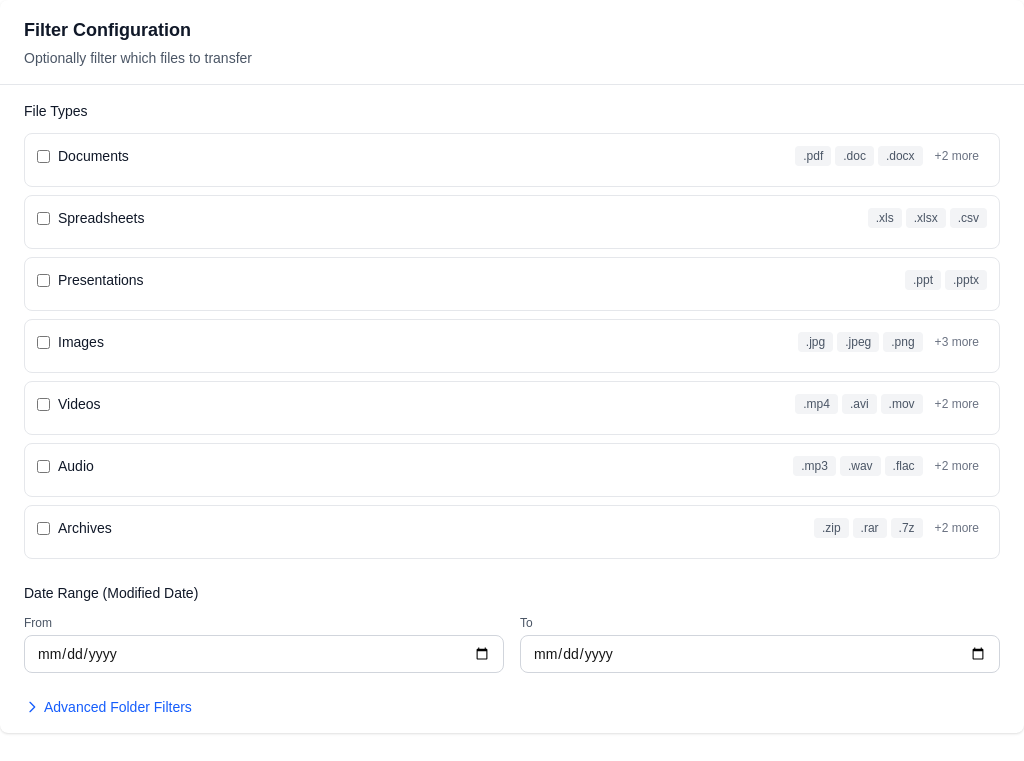
FilterConfiguration Component › validates date range - shows error when start date is after end date
Type "2024-12-31" into the date field labelled "From" at (264, 654), box [24,635,504,673]
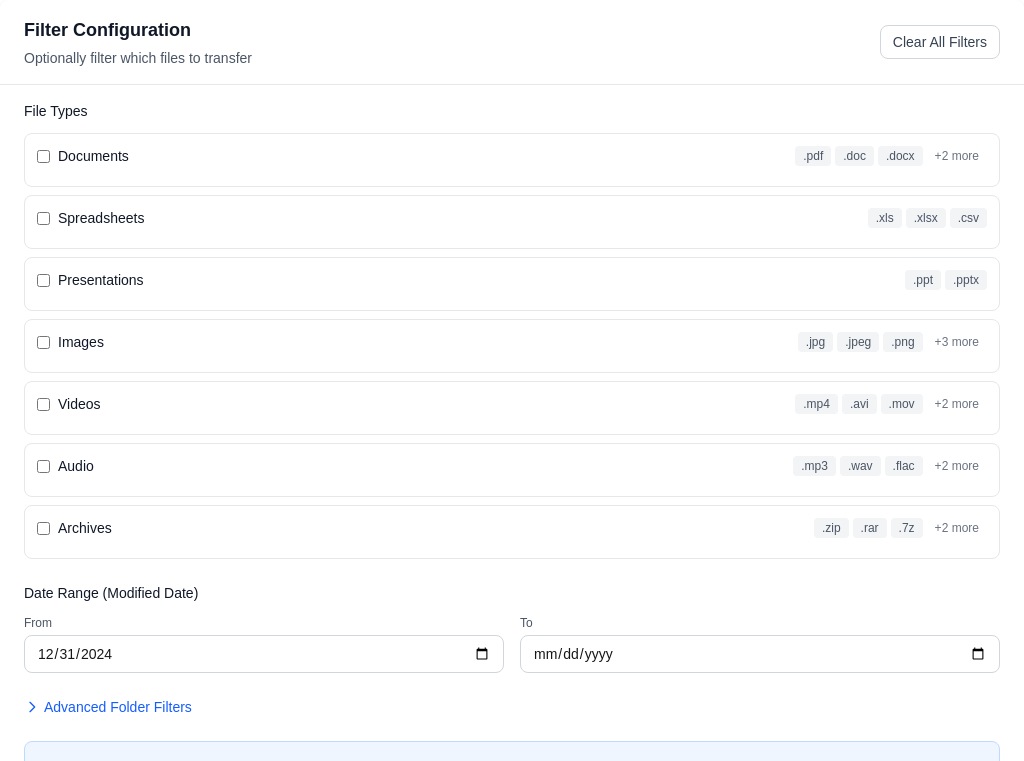
Type "2024-01-01" into the date field labelled "To" at (760, 654), box [520,635,1000,673]
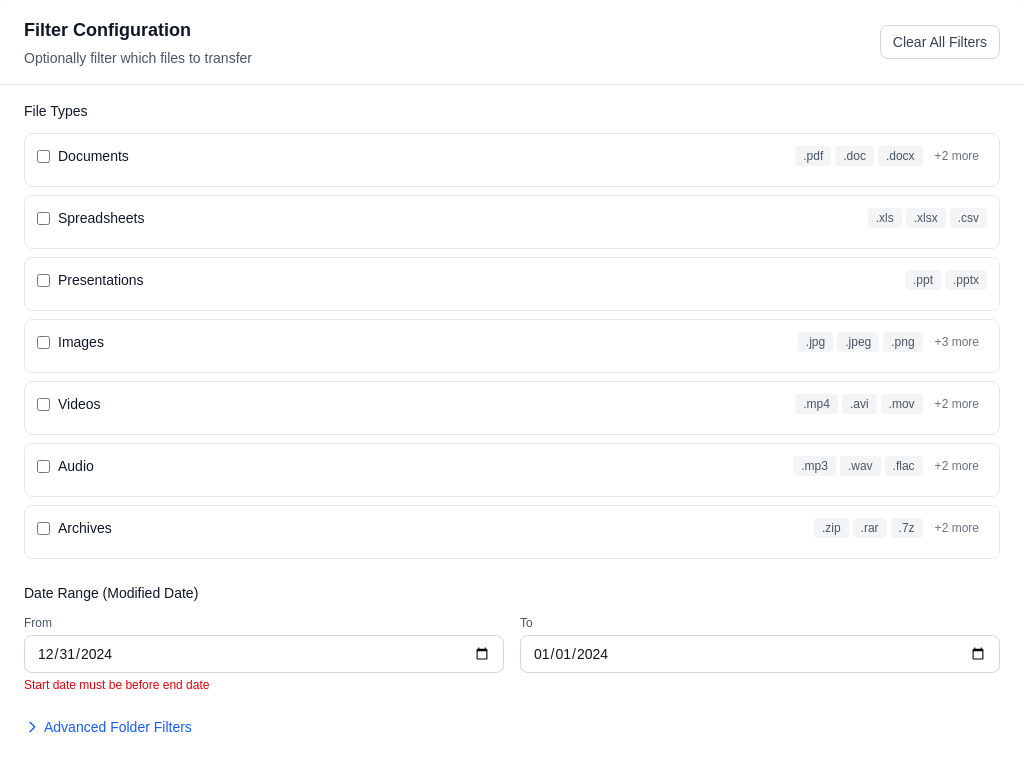
Now the text "Start date must be before end date" is shown, box [24,678,210,692]
